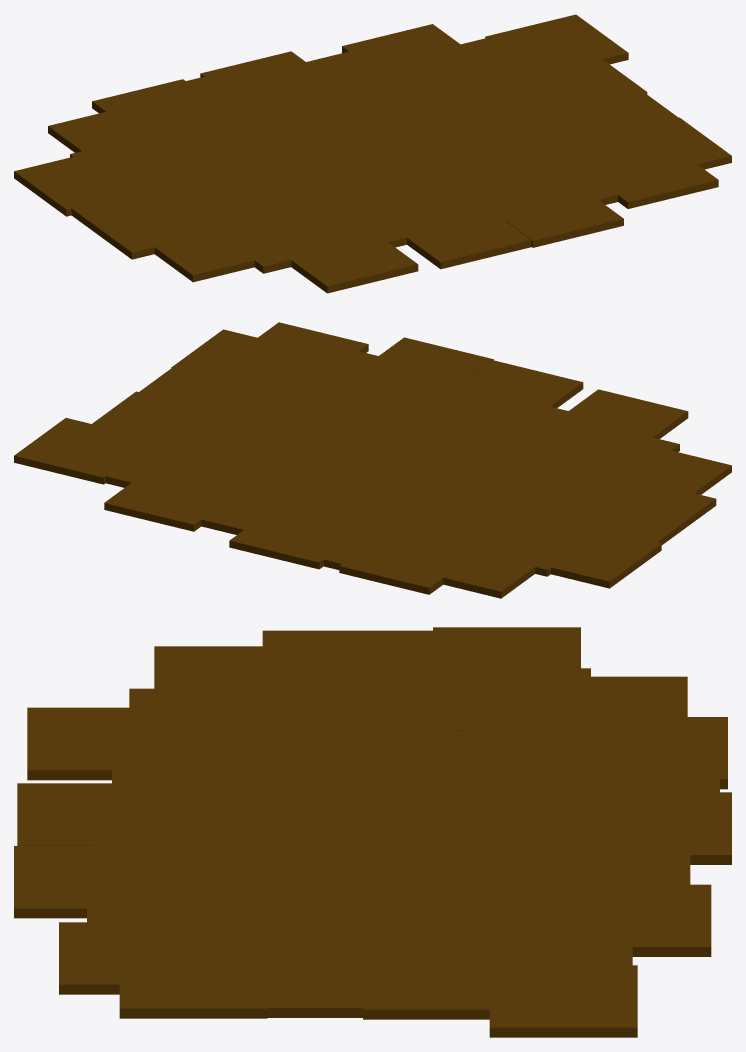
The model's file is Lumpur Hisap.fbx.
3 renders of one model, top to bottom at view 1: azimuth 30°, elevation 25°; view 2: azimuth 150°, elevation 25°; view 3: azimuth 270°, elevation 25°, orthographic. The views are drawn at different scales.
Visible parts, largest first — view 1: Cube.004; view 2: Cube.004; view 3: Cube.004.
Part boxes in pixels (bbox=[...]): Cube.004: bbox=[14, 14, 731, 293]; Cube.004: bbox=[14, 322, 731, 598]; Cube.004: bbox=[14, 627, 731, 1037].
Bounding box in the file's own units: 1281 × 14.87 × 971.
